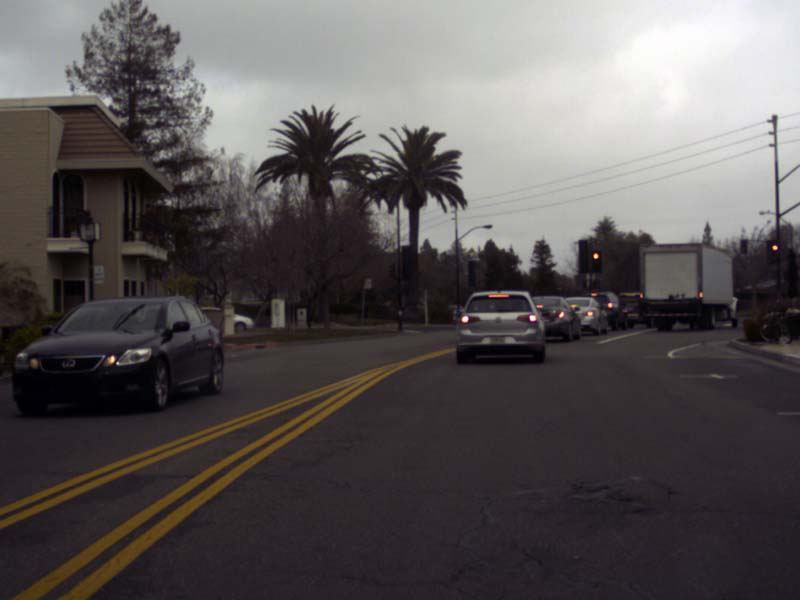Red: (591, 250, 601, 272), (770, 241, 779, 261)
